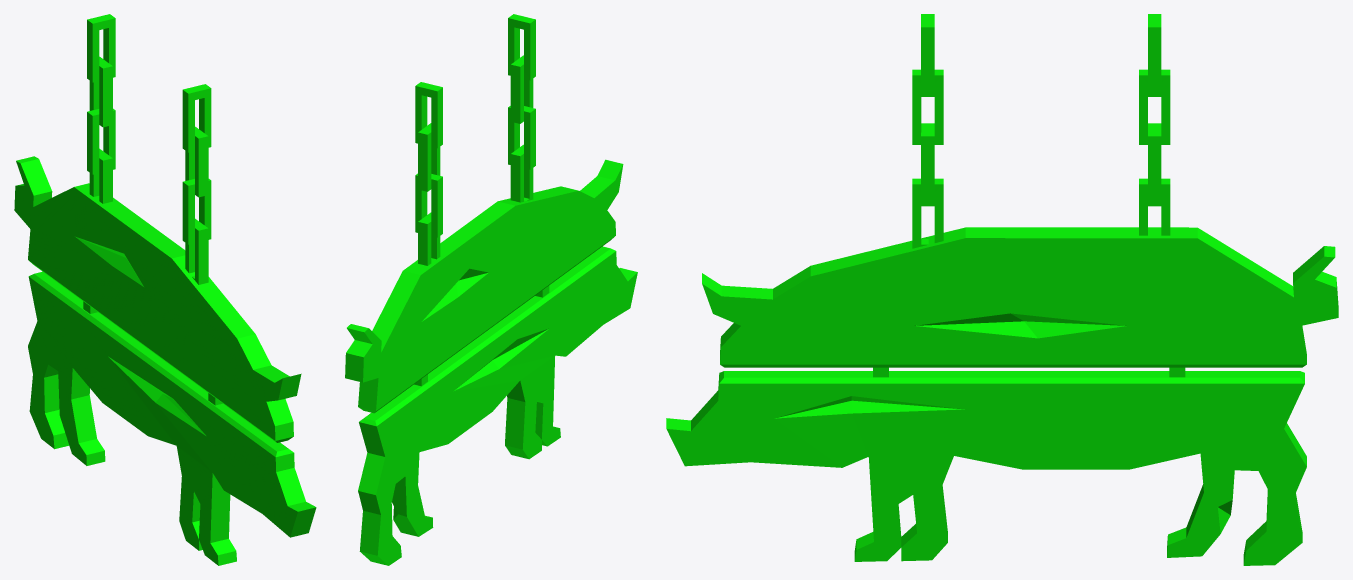
Rendered from SM_Signboard_Butcher_Fantasy.fbx.
3 renders of one model, left to right at view 1: azimuth 30°, elevation 25°; view 2: azimuth 150°, elevation 25°; view 3: azimuth 270°, elevation 25°, orthographic. The views are drawn at different scales.
Parts seen in each view (by area): view 1: singboard-butcher-fantasy; view 2: singboard-butcher-fantasy; view 3: singboard-butcher-fantasy.
Boxes of the visible parts, left/top/right/bottom form: singboard-butcher-fantasy: left=14, top=14, right=316, bottom=565; singboard-butcher-fantasy: left=345, top=14, right=637, bottom=565; singboard-butcher-fantasy: left=666, top=14, right=1338, bottom=565.
Size of the model in its own units: 0.067 by 1.27 by 1.44.
